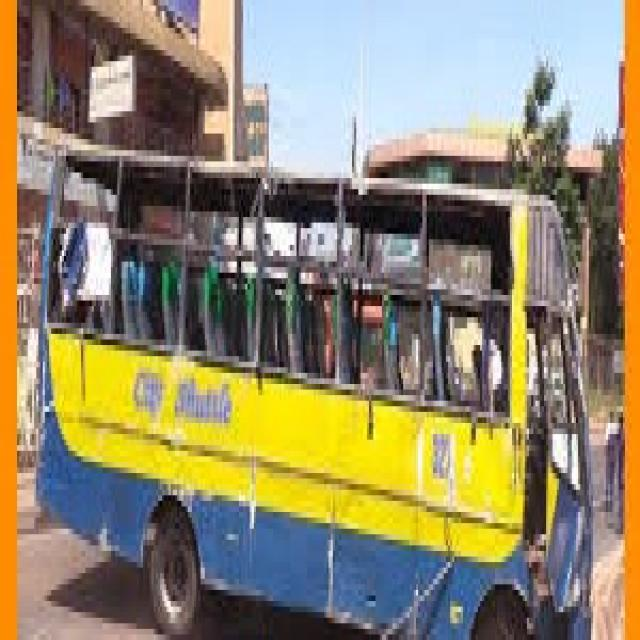bus: (36, 65, 609, 640)
